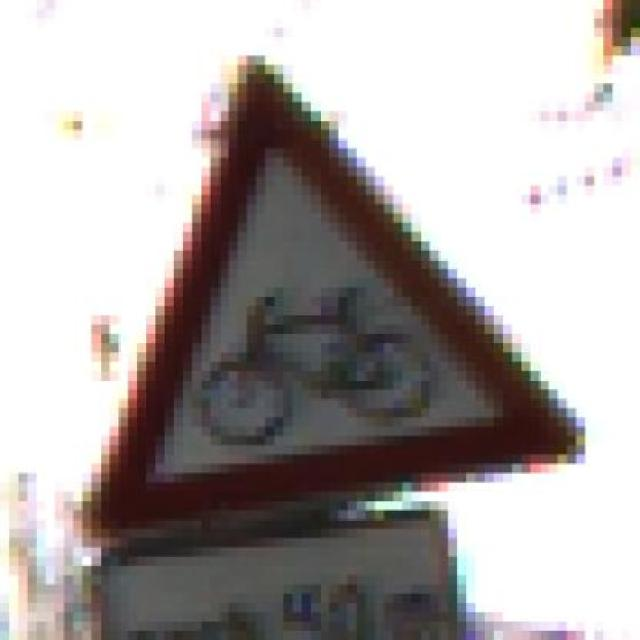CYCLE ROUTE AHEAD WARNING: (37, 37, 586, 529)
